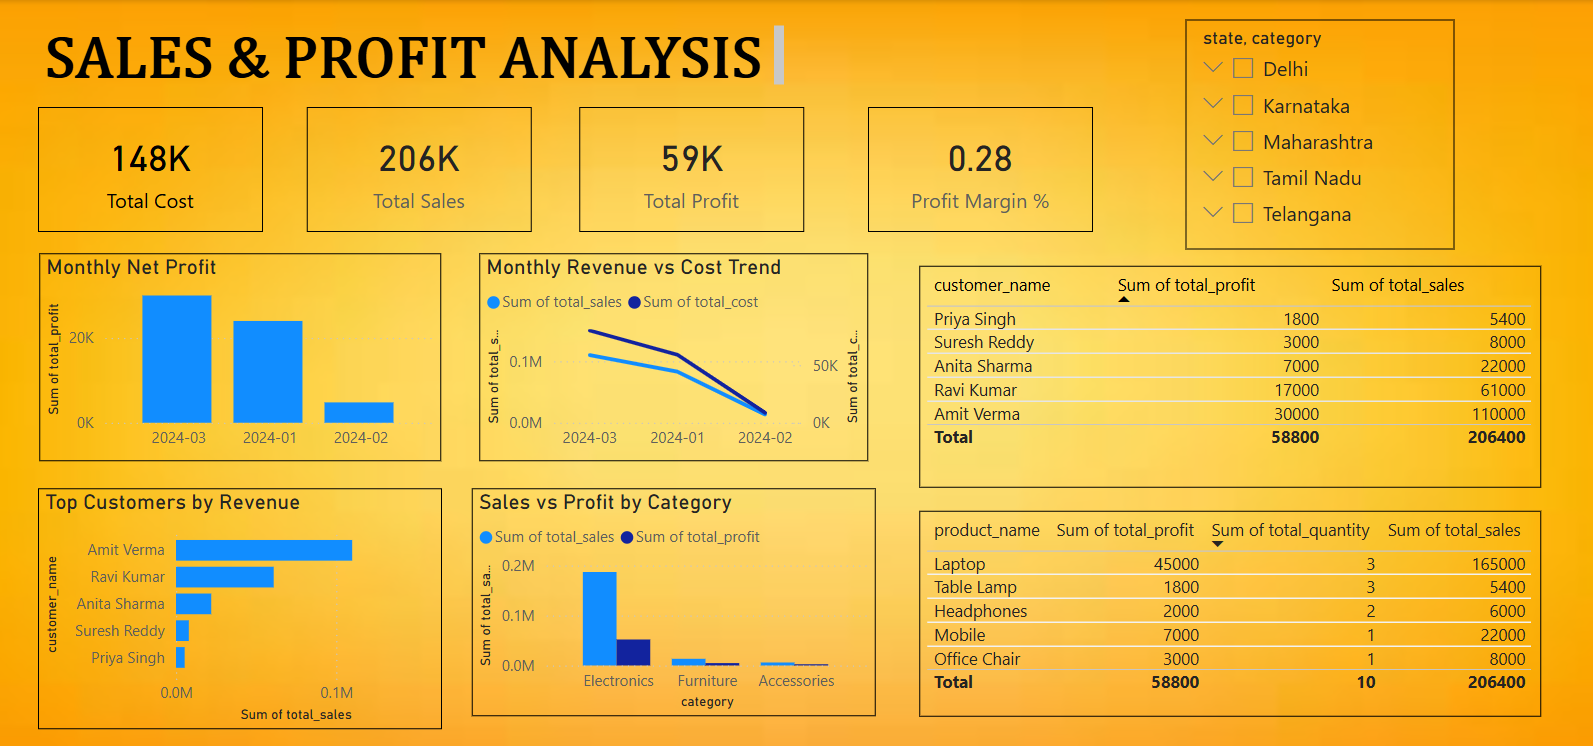

The page's visual inventory and layout, read from the dashboard file:
{"tool":"powerbi","page":{"name":"EXECUTIVE OVERVIEW","canvas":[1280,720],"ordinal":0},"visuals":[{"type":"card","fields":{"Values":["vw_sales.Total Profit"]},"box":[908.6,7.1,157.1,132.9],"z":0},{"type":"lineChart","title":"Monthly Revenue vs Cost Trend","fields":{"Y":["vw_monthly_finance.total_sales"],"Category":["vw_monthly_finance.month"],"Y2":["vw_monthly_finance.total_cost"]},"box":[915.7,158.6,311.4,167.1],"z":1000},{"type":"card","fields":{"Values":["vw_sales.Total Sales"]},"box":[705.7,7.1,182.9,132.9],"z":2000},{"type":"card","fields":{"Values":["vw_sales.Total Cost"]},"box":[467.1,7.1,221.4,132.9],"z":3000},{"type":"card","fields":{"Values":["vw_sales.Profit Margin %"]},"box":[1092.9,7.1,134.3,132.9],"z":4000},{"type":"clusteredColumnChart","title":"Monthly Net Profit","fields":{"Category":["vw_monthly_finance.month"],"Y":["vw_monthly_finance.total_profit"]},"box":[384.3,158.6,321.4,167.1],"z":5000},{"type":"slicer","fields":{"Values":["vw_sales.state","vw_sales.category"]},"box":[724.3,158.6,174.3,167.1],"z":6000},{"type":"textbox","box":[20,21.4,218.6,32.9],"z":7000},{"type":"clusteredBarChart","title":"Top Customers by Revenue","fields":{"Category":["vw_customer_contribution.customer_name"],"Y":["vw_customer_contribution.total_sales"]},"box":[384.3,337.1,322.9,184.3],"z":8000},{"type":"tableEx","fields":{"Values":["vw_customer_contribution.customer_name","vw_customer_contribution.total_profit","vw_customer_contribution.total_sales"]},"box":[728.6,341.4,498.6,177.1],"z":8001},{"type":"clusteredColumnChart","title":"Sales vs Profit by Category","fields":{"Category":["vw_product_profitability.category"],"Y":["vw_product_profitability.total_sales","vw_product_profitability.total_profit"]},"box":[384.3,537.1,322.9,182.9],"z":8002},{"type":"tableEx","fields":{"Values":["vw_product_profitability.product_name","vw_product_profitability.total_profit","vw_product_profitability.total_quantity","vw_product_profitability.total_sales"]},"box":[728.6,528.6,497.1,182.9],"z":8003},{"type":"textbox","box":[20,410,218.6,38.6],"z":8004},{"type":"textbox","box":[20,592.9,180,72.9],"z":8005}]}

Visuals, with their boxes on the page's 1280x720 design canvas (x1, y1, x2, y2). These are canvas units, not pixel positions in the 1593x746 screenshot, which may show the page scaled, cropped or inside an application window:
card - vw_sales.Total Profit: crop(909, 7, 1066, 140)
"Monthly Revenue vs Cost Trend" lineChart: crop(916, 159, 1227, 326)
card - vw_sales.Total Sales: crop(706, 7, 889, 140)
card - vw_sales.Total Cost: crop(467, 7, 688, 140)
card - vw_sales.Profit Margin %: crop(1093, 7, 1227, 140)
"Monthly Net Profit" clusteredColumnChart: crop(384, 159, 706, 326)
slicer - vw_sales.state x vw_sales.category: crop(724, 159, 899, 326)
textbox: crop(20, 21, 239, 54)
"Top Customers by Revenue" clusteredBarChart: crop(384, 337, 707, 521)
tableEx - vw_customer_contribution.customer_name x vw_customer_contribution.total_profit: crop(729, 341, 1227, 518)
"Sales vs Profit by Category" clusteredColumnChart: crop(384, 537, 707, 720)
tableEx - vw_product_profitability.product_name x vw_product_profitability.total_profit: crop(729, 529, 1226, 712)
textbox: crop(20, 410, 239, 449)
textbox: crop(20, 593, 200, 666)
